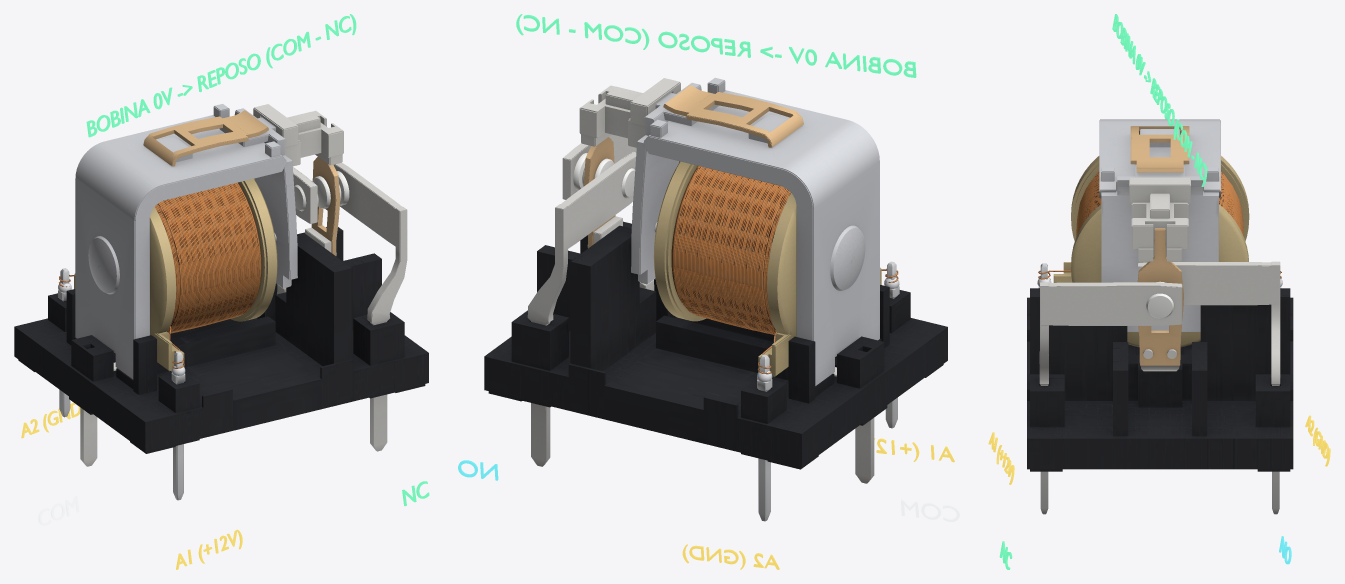
File: 02_Rele_Sin_Carcasa_Electromagnetismo_Conmutacion.glb
3 views of the same model, side by side, from view 1: azimuth 30°, elevation 25°; view 2: azimuth 150°, elevation 25°; view 3: azimuth 270°, elevation 25° (orthographic). The views are drawn at different scales.
Visible parts, largest first — view 1: 01_Base_Aislante_PBT_Negra, 03_Nucleo_y_Yugo_Hierro_Dulce, 04_Devanado_Cobre_Esmaltado_400Ohm, 02_Carrete_Aislante_Bobina_Nylon, 10_Contacto_Fijo_NC_Normalmente_Cerrado, 06_Armadura_Movil_Hierro_Dulce, 09_Terminal_y_Fleje_Comun_COM_AgSnO2, 08_Actuador_Aislante_Empujador_PBT, 07_Resorte_Retorno_Bronce_Fosforoso, Lbl_Estado_Reposo_1, 05_Pines_Bobina_12V_A1_A2, 11_Contacto_Fijo_NO_Normalmente_Abierto (+1 smaller); view 2: 01_Base_Aislante_PBT_Negra, 03_Nucleo_y_Yugo_Hierro_Dulce, 04_Devanado_Cobre_Esmaltado_400Ohm, 02_Carrete_Aislante_Bobina_Nylon, 11_Contacto_Fijo_NO_Normalmente_Abierto, 06_Armadura_Movil_Hierro_Dulce, 08_Actuador_Aislante_Empujador_PBT, 07_Resorte_Retorno_Bronce_Fosforoso, Lbl_Estado_Reposo_1, 09_Terminal_y_Fleje_Comun_COM_AgSnO2, 05_Pines_Bobina_12V_A1_A2, 10_Contacto_Fijo_NC_Normalmente_Cerrado (+1 smaller); view 3: 01_Base_Aislante_PBT_Negra, 10_Contacto_Fijo_NC_Normalmente_Cerrado, 06_Armadura_Movil_Hierro_Dulce, 11_Contacto_Fijo_NO_Normalmente_Abierto, 02_Carrete_Aislante_Bobina_Nylon, 03_Nucleo_y_Yugo_Hierro_Dulce, 08_Actuador_Aislante_Empujador_PBT, 09_Terminal_y_Fleje_Comun_COM_AgSnO2, 07_Resorte_Retorno_Bronce_Fosforoso, Lbl_Estado_Reposo_1, 04_Devanado_Cobre_Esmaltado_400Ohm, Lbl_A2 (+1 smaller).
Boxes of the visible parts, x1,y1,x2,y2 form: 01_Base_Aislante_PBT_Negra: [14, 227, 428, 453]; 03_Nucleo_y_Yugo_Hierro_Dulce: [75, 104, 286, 379]; 04_Devanado_Cobre_Esmaltado_400Ohm: [59, 182, 261, 368]; 02_Carrete_Aislante_Bobina_Nylon: [74, 178, 277, 371]; 10_Contacto_Fijo_NC_Normalmente_Cerrado: [334, 162, 407, 451]; 06_Armadura_Movil_Hierro_Dulce: [219, 108, 297, 288]; 09_Terminal_y_Fleje_Comun_COM_AgSnO2: [80, 157, 341, 466]; 08_Actuador_Aislante_Empujador_PBT: [253, 104, 343, 166]; 07_Resorte_Retorno_Bronce_Fosforoso: [143, 110, 268, 166]; Lbl_Estado_Reposo_1: [86, 14, 356, 137]; 05_Pines_Bobina_12V_A1_A2: [58, 268, 185, 500]; 11_Contacto_Fijo_NO_Normalmente_Abierto: [292, 166, 318, 223]; 01_Base_Aislante_PBT_Negra: [484, 221, 947, 469]; 03_Nucleo_y_Yugo_Hierro_Dulce: [643, 77, 879, 385]; 04_Devanado_Cobre_Esmaltado_400Ohm: [671, 166, 898, 374]; 02_Carrete_Aislante_Bobina_Nylon: [653, 161, 881, 376]; 11_Contacto_Fijo_NO_Normalmente_Abierto: [527, 152, 636, 466]; 06_Armadura_Movil_Hierro_Dulce: [631, 82, 718, 284]; 08_Actuador_Aislante_Empujador_PBT: [579, 78, 680, 147]; 07_Resorte_Retorno_Bronce_Fosforoso: [663, 85, 803, 147]; Lbl_Estado_Reposo_1: [516, 14, 916, 77]; 09_Terminal_y_Fleje_Comun_COM_AgSnO2: [582, 137, 874, 483]; 05_Pines_Bobina_12V_A1_A2: [757, 261, 899, 521]; 10_Contacto_Fijo_NC_Normalmente_Cerrado: [562, 134, 636, 199]; 01_Base_Aislante_PBT_Negra: [1027, 288, 1293, 471]; 10_Contacto_Fijo_NC_Normalmente_Cerrado: [1039, 282, 1182, 514]; 06_Armadura_Movil_Hierro_Dulce: [1101, 164, 1218, 331]; 11_Contacto_Fijo_NO_Normalmente_Abierto: [1138, 261, 1280, 514]; 02_Carrete_Aislante_Bobina_Nylon: [1053, 156, 1249, 347]; 03_Nucleo_y_Yugo_Hierro_Dulce: [1099, 119, 1220, 198]; 08_Actuador_Aislante_Empujador_PBT: [1129, 177, 1190, 262]; 09_Terminal_y_Fleje_Comun_COM_AgSnO2: [1137, 228, 1183, 371]; 07_Resorte_Retorno_Bronce_Fosforoso: [1130, 126, 1189, 172]; Lbl_Estado_Reposo_1: [1112, 14, 1207, 186]; 04_Devanado_Cobre_Esmaltado_400Ohm: [1038, 171, 1281, 279]; Lbl_A2: [1305, 415, 1330, 466].
Size of what is drawn, in the model's own units: 22.38 by 24.1 by 17.74.
20 materials, 16 textured.
